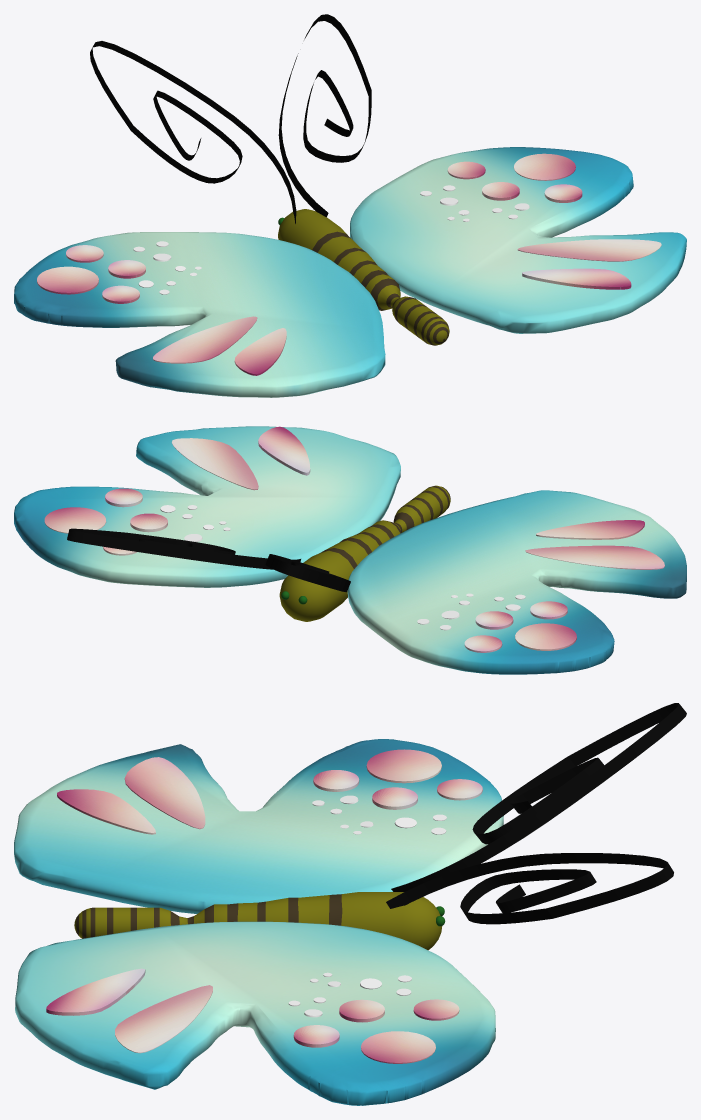
File: butterfly.FBX
3 views of the same model, one above another, from view 1: azimuth 30°, elevation 25°; view 2: azimuth 150°, elevation 25°; view 3: azimuth 270°, elevation 25° (orthographic). The views are drawn at different scales.
Visible parts, largest first — view 1: left wing, right wing, body, Line004, Line005, Line009, Line006, Line010, Line007, Circle005, Circle036, Circle002 (+3 smaller); view 2: left wing, right wing, body, Line005, Line006, Line009, Line007, Line010, Circle005, Line004, Circle036, Circle004 (+4 smaller); view 3: right wing, left wing, body, Line004, Line005, Line009, Line006, Line010, Line007, Circle005, Circle036, Circle002 (+5 smaller).
Boxes of the visible parts, left/top/right/bottom form: left wing: left=14, top=232, right=385, bottom=397; right wing: left=350, top=147, right=686, bottom=333; body: left=278, top=209, right=449, bottom=345; Line004: left=90, top=41, right=296, bottom=223; Line005: left=278, top=14, right=371, bottom=217; Line009: left=517, top=239, right=661, bottom=261; Line006: left=153, top=316, right=257, bottom=363; Line010: left=522, top=268, right=631, bottom=289; Line007: left=234, top=328, right=286, bottom=375; Circle005: left=37, top=266, right=98, bottom=294; Circle036: left=513, top=153, right=575, bottom=180; Circle002: left=544, top=184, right=582, bottom=202; left wing: left=347, top=490, right=686, bottom=674; right wing: left=14, top=426, right=400, bottom=587; body: left=279, top=485, right=450, bottom=621; Line005: left=67, top=528, right=300, bottom=569; Line006: left=525, top=545, right=664, bottom=569; Line009: left=171, top=438, right=258, bottom=490; Line007: left=536, top=520, right=644, bottom=539; Line010: left=258, top=426, right=310, bottom=475; Circle005: left=515, top=623, right=576, bottom=650; Line004: left=265, top=554, right=350, bottom=592; Circle036: left=44, top=507, right=106, bottom=533; Circle004: left=130, top=513, right=167, bottom=532; right wing: left=15, top=921, right=495, bottom=1105; left wing: left=14, top=739, right=503, bottom=913; body: left=74, top=892, right=442, bottom=950; Line004: left=391, top=703, right=686, bottom=891; Line005: left=386, top=853, right=673, bottom=924; Line009: left=115, top=985, right=212, bottom=1053; Line006: left=124, top=757, right=205, bottom=829; Line010: left=46, top=968, right=145, bottom=1015; Line007: left=57, top=789, right=155, bottom=834; Circle005: left=366, top=749, right=441, bottom=783; Circle036: left=361, top=1031, right=435, bottom=1063; Circle002: left=293, top=1025, right=339, bottom=1047.
Bounding box in the file's own units: 35.56 × 9.15 × 28.65.
Materials: 7 (2 with a texture image).
